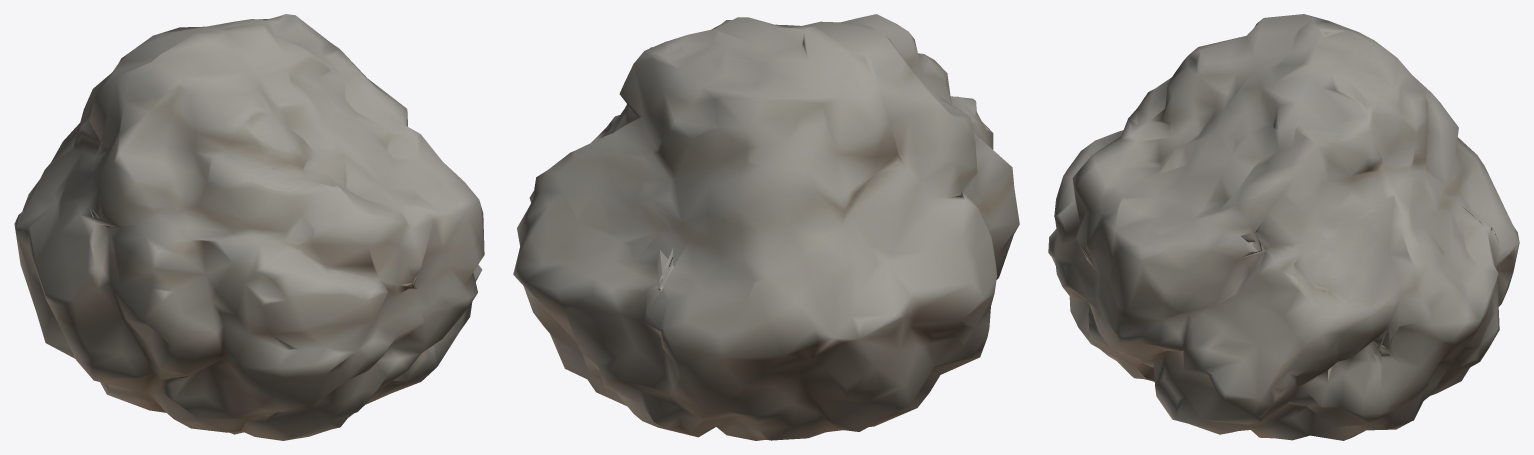
The model's file is item_ore.glb.
The picture shows the model from 3 angles, left to right: view 1: azimuth 30°, elevation 25°; view 2: azimuth 150°, elevation 25°; view 3: azimuth 270°, elevation 25°; orthographic projection. The views are drawn at different scales.
Parts seen in each view (by area): view 1: tripo_node_e3441a84-88e2-464d-a591-c53151f89faa; view 2: tripo_node_e3441a84-88e2-464d-a591-c53151f89faa; view 3: tripo_node_e3441a84-88e2-464d-a591-c53151f89faa.
Part boxes in pixels (x1=…): tripo_node_e3441a84-88e2-464d-a591-c53151f89faa: x1=14, y1=14, x2=484, y2=440; tripo_node_e3441a84-88e2-464d-a591-c53151f89faa: x1=513, y1=14, x2=1019, y2=440; tripo_node_e3441a84-88e2-464d-a591-c53151f89faa: x1=1048, y1=14, x2=1519, y2=440.
Bounding box in the file's own units: 0.9621 × 0.7944 × 1.
1 material, 1 textured.
